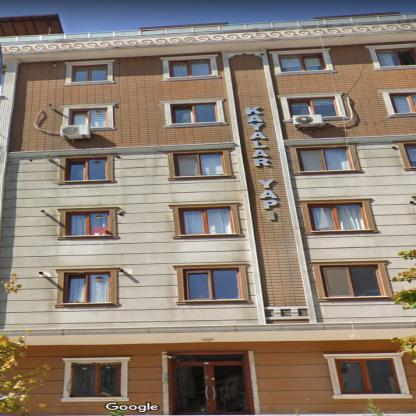door: (172, 362, 253, 414)
window: (336, 357, 400, 394), (323, 266, 383, 297), (186, 269, 241, 300), (72, 362, 121, 396), (310, 204, 366, 230), (180, 208, 233, 234), (298, 148, 353, 171), (66, 274, 110, 302), (175, 153, 224, 176), (287, 98, 338, 118), (66, 157, 106, 181), (172, 103, 218, 123), (69, 212, 109, 235), (278, 53, 324, 72), (376, 49, 415, 66), (170, 60, 210, 76), (71, 109, 106, 127), (172, 354, 245, 362), (74, 65, 108, 82), (390, 93, 415, 114), (405, 146, 415, 166)
